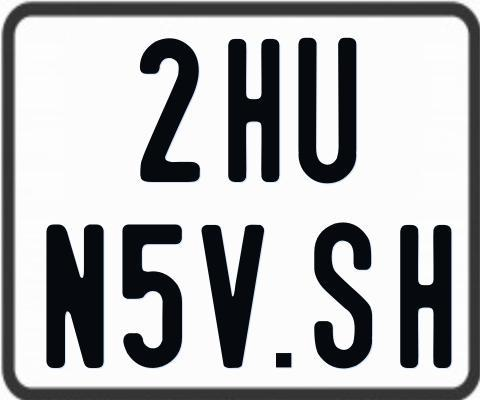2: (138, 37, 204, 183)
5: (121, 221, 181, 367)
H: (226, 39, 279, 186), (400, 225, 452, 373)
N: (45, 224, 106, 373)
S: (314, 220, 374, 371)
U: (297, 38, 355, 188)
V: (201, 222, 263, 370)
